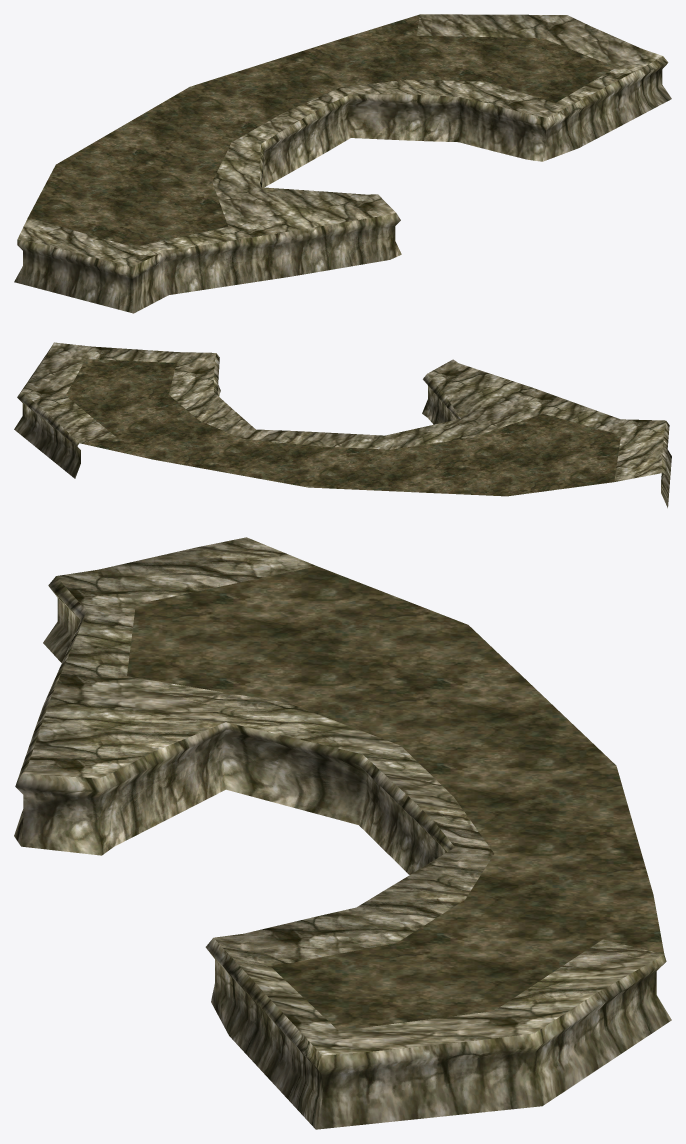
The model's file is CB_NEWPLAYSURFACE_CB_PLAYSURFACE137.fbx.
The picture shows the model from 3 angles, top to bottom: view 1: azimuth 30°, elevation 25°; view 2: azimuth 150°, elevation 25°; view 3: azimuth 270°, elevation 25°; orthographic projection. The views are drawn at different scales.
Parts seen in each view (by area): view 1: CB_NEWPLAYSURFACE_CB_PLAYSURFACE137; view 2: CB_NEWPLAYSURFACE_CB_PLAYSURFACE137; view 3: CB_NEWPLAYSURFACE_CB_PLAYSURFACE137.
Part boxes in pixels (box(x1,y1,x2,y2)): CB_NEWPLAYSURFACE_CB_PLAYSURFACE137: box(14, 14, 671, 313); CB_NEWPLAYSURFACE_CB_PLAYSURFACE137: box(14, 342, 671, 507); CB_NEWPLAYSURFACE_CB_PLAYSURFACE137: box(14, 537, 671, 1129).
Bounding box in the file's own units: 480040 × 31044 × 251051.
Materials: 3 (3 with a texture image).
